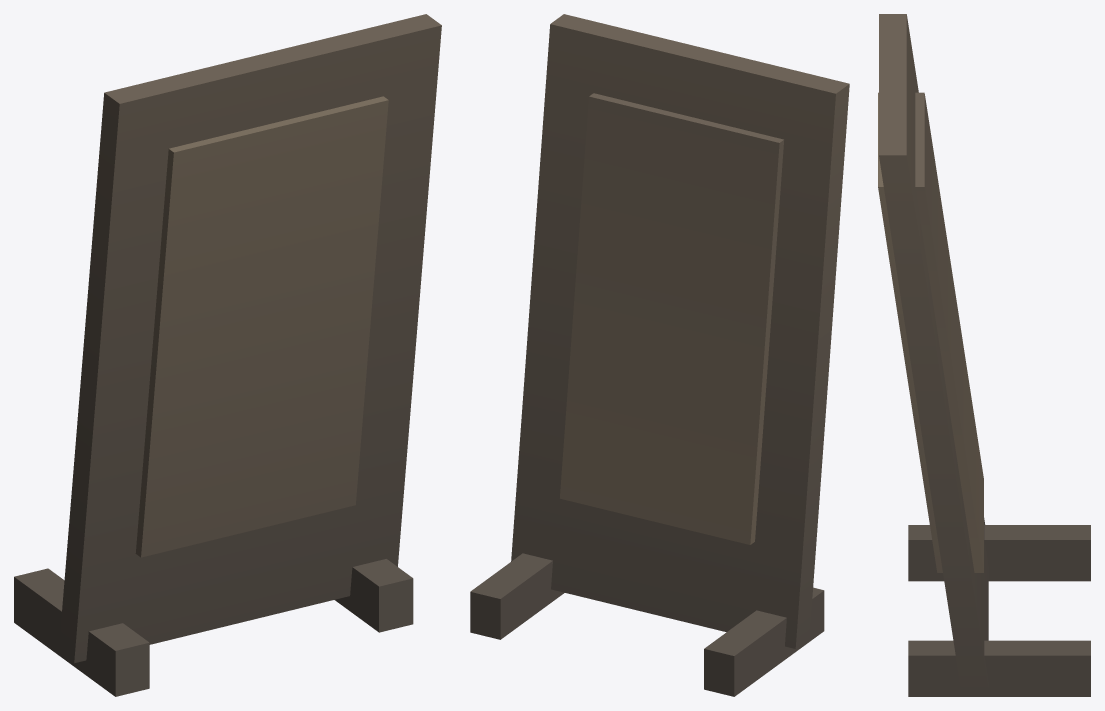
Rendered from prop_kanban_tate.glb.
3 views of the same model, side by side, from view 1: azimuth 30°, elevation 25°; view 2: azimuth 150°, elevation 25°; view 3: azimuth 270°, elevation 25° (orthographic). The views are drawn at different scales.
Parts seen in each view (by area): view 1: prop_kanban_tate; view 2: prop_kanban_tate; view 3: prop_kanban_tate.
Part boxes in pixels (left/top/right/bottom): prop_kanban_tate: left=14, top=14, right=441, bottom=696; prop_kanban_tate: left=470, top=14, right=849, bottom=696; prop_kanban_tate: left=878, top=14, right=1090, bottom=696.
Bounding box in the file's own units: 0.66 × 1.19 × 0.42.
